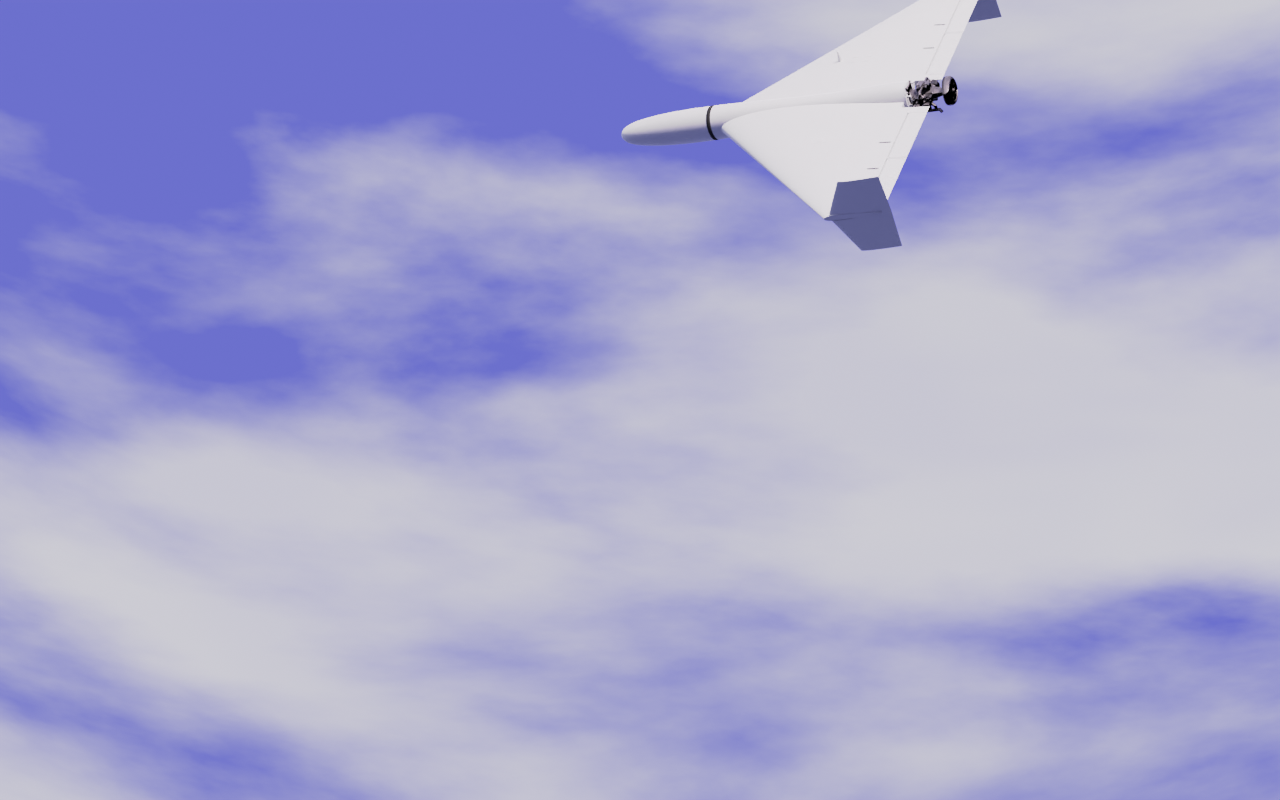shahed: (621, 1, 1003, 253)
